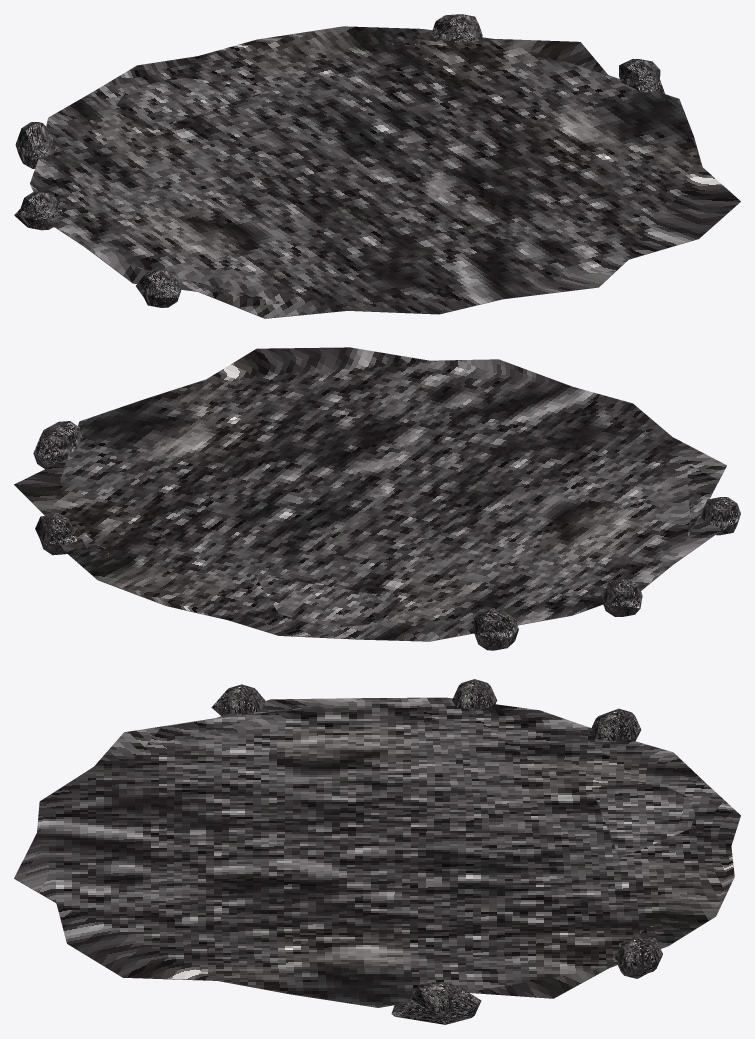
Rendered from dirt.glb.
3 views of the same model, one above another, from view 1: azimuth 30°, elevation 25°; view 2: azimuth 150°, elevation 25°; view 3: azimuth 270°, elevation 25° (orthographic). The views are drawn at different scales.
Parts seen in each view (by area): view 1: Cylinder, Roundcube.004, Roundcube.002, Roundcube.003, Roundcube, Roundcube.001; view 2: Cylinder, Roundcube, Roundcube.002, Roundcube.003, Roundcube.001, Roundcube.004; view 3: Cylinder, Roundcube, Roundcube.001, Roundcube.002, Roundcube.004, Roundcube.003.
Boxes of the visible parts, x1,y1,x2,y2 form: Cylinder: (30,26,740,318); Roundcube.004: (136,269,180,307); Roundcube.002: (15,122,56,168); Roundcube.003: (14,191,63,230); Roundcube: (619,59,664,93); Roundcube.001: (432,14,482,42); Cylinder: (14,347,726,641); Roundcube: (33,421,85,468); Roundcube.002: (474,608,518,650); Roundcube.003: (602,579,642,616); Roundcube.001: (35,514,77,555); Roundcube.004: (700,497,740,535); Cylinder: (14,697,740,1007); Roundcube: (391,982,481,1024); Roundcube.001: (615,937,662,978); Roundcube.002: (590,708,641,742); Roundcube.004: (211,684,265,715); Roundcube.003: (452,679,497,709).
Bounding box in the file's own units: 1.7 × 0.1106 × 1.61.
Materials: 1 (1 with a texture image).
